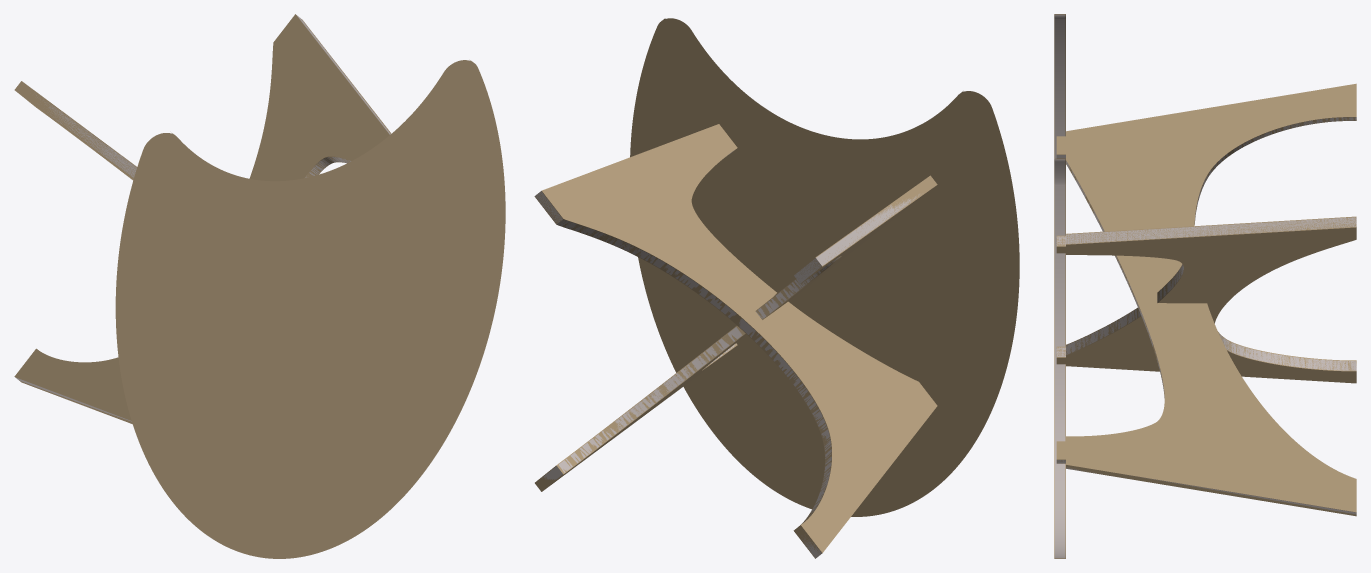
Rendered from NODO_MESA_RATONA_EN_CRUZ_PARAISO_V7.glb.
The picture shows the model from 3 angles, left to right: view 1: azimuth 30°, elevation 25°; view 2: azimuth 150°, elevation 25°; view 3: azimuth 270°, elevation 25°; orthographic projection.
Parts seen in each view (by area): view 1: Tapa_cantos, Pata_A_cantos, Pata_B_cantos, Pata_B_Kiri, Pata_A_Kiri; view 2: Tapa_cantos, Pata_A_cantos, Pata_B_cantos, Pata_B_Kiri, Pata_A_Kiri; view 3: Pata_B_cantos, Pata_A_cantos, Pata_A_Kiri, Tapa_Kiri, Pata_B_Kiri, Tapa_cantos.
Part boxes in pixels (x1,y1,x2,y2): Tapa_cantos: (115, 60, 505, 558); Pata_A_cantos: (14, 14, 391, 423); Pata_B_cantos: (14, 81, 137, 180); Pata_B_Kiri: (36, 95, 136, 177); Pata_A_Kiri: (15, 15, 390, 421); Tapa_cantos: (630, 18, 1019, 516); Pata_A_cantos: (534, 124, 937, 558); Pata_B_cantos: (535, 175, 937, 491); Pata_B_Kiri: (542, 194, 919, 479); Pata_A_Kiri: (535, 151, 831, 558); Pata_B_cantos: (1056, 83, 1356, 516); Pata_A_cantos: (1056, 216, 1356, 383); Pata_A_Kiri: (1056, 217, 1356, 370); Tapa_Kiri: (1055, 14, 1065, 558); Pata_B_Kiri: (1056, 117, 1356, 514); Tapa_cantos: (1054, 14, 1065, 558).
Bounding box in the file's own units: 0.6924 × 0.7771 × 0.468.
